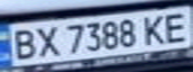3: (81, 19, 106, 53)
7: (60, 20, 84, 55)
8: (115, 16, 142, 48), (100, 18, 121, 51)
B: (6, 26, 42, 61)
E: (157, 8, 193, 44)
K: (139, 11, 172, 46)
X: (30, 24, 63, 58)
